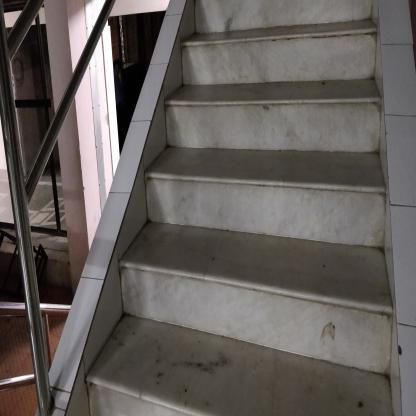stairs: (199, 8, 373, 396)
